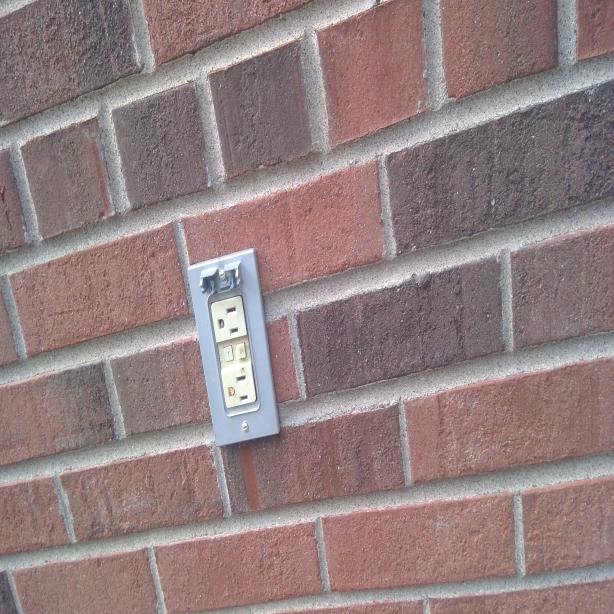typeb: (212, 301, 244, 337), (224, 369, 253, 406)
